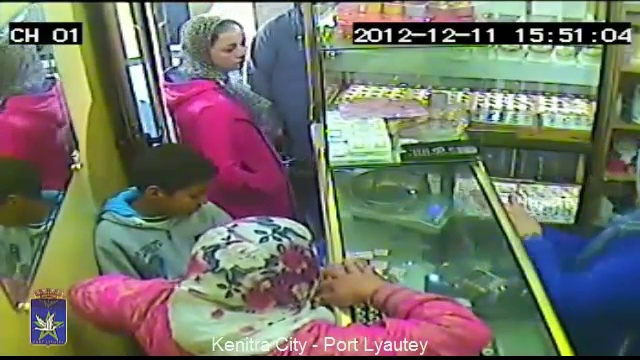face: (207, 30, 250, 71), (157, 183, 204, 217)
